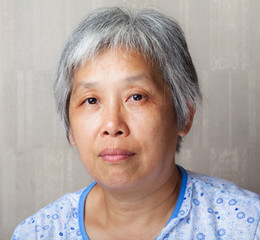young: (51, 13, 188, 191)
